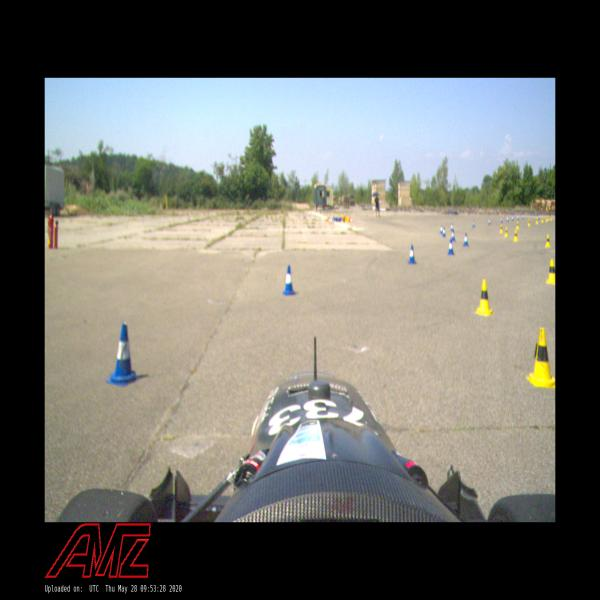blue_cone: (107, 320, 138, 388), (282, 265, 296, 296), (408, 244, 416, 264), (447, 238, 454, 255), (463, 231, 469, 246), (451, 230, 455, 241), (442, 226, 446, 237), (440, 224, 443, 234), (450, 222, 453, 231), (473, 219, 476, 228), (488, 217, 491, 225), (522, 212, 525, 220), (511, 215, 514, 221), (500, 216, 503, 222), (506, 215, 508, 222), (517, 214, 519, 220)
yellow_cone: (526, 328, 555, 388), (476, 279, 494, 316), (546, 258, 555, 284), (545, 233, 551, 248), (513, 229, 518, 242), (499, 223, 503, 234), (504, 226, 508, 237), (516, 221, 519, 230), (528, 220, 531, 226), (536, 217, 538, 224)
